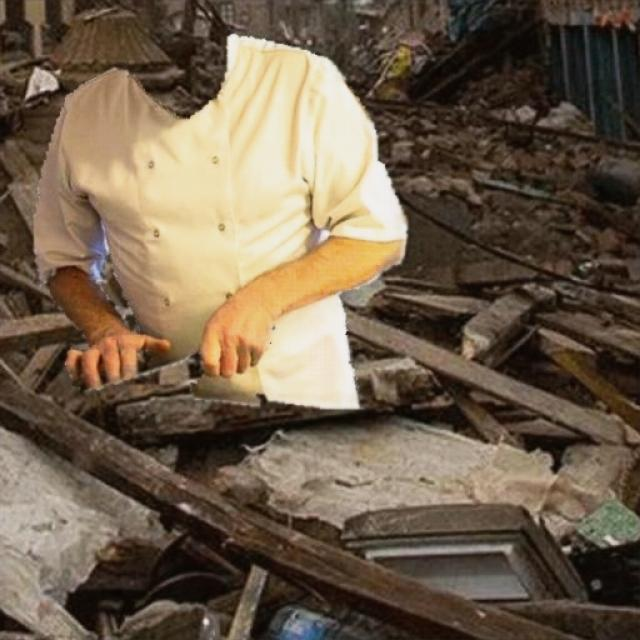Person in Rubble: (34, 34, 406, 408)
